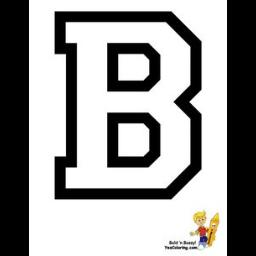b: (41, 3, 215, 207)
